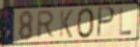8: (18, 9, 34, 42)
K: (59, 9, 74, 39)
L: (118, 7, 133, 36)
O: (77, 7, 96, 40)
P: (95, 6, 116, 39)
R: (36, 10, 56, 41)
